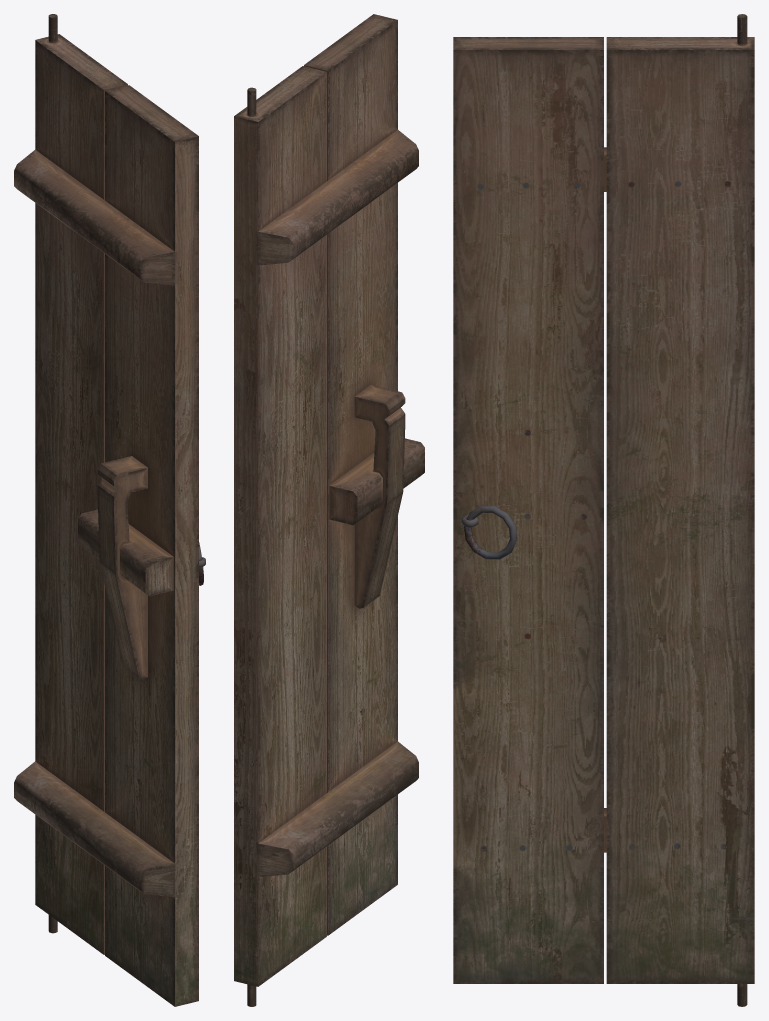
The model's file is SM_Door01a.fbx.
3 renders of one model, left to right at view 1: azimuth 30°, elevation 25°; view 2: azimuth 150°, elevation 25°; view 3: azimuth 270°, elevation 25°, orthographic. The views are drawn at different scales.
Parts seen in each view (by area): view 1: SM_Door01a; view 2: SM_Door01a; view 3: SM_Door01a.
Boxes of the visible parts, bbox=[...] form: SM_Door01a: bbox=[14, 14, 205, 1006]; SM_Door01a: bbox=[234, 14, 424, 1006]; SM_Door01a: bbox=[453, 14, 754, 1006].
Bounding box in the file's own units: 20.91 × 60 × 217.
1 material, 1 textured.
